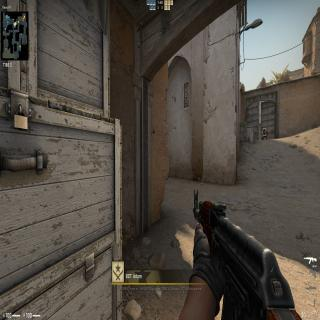CT-Head: (263, 128, 265, 132)
